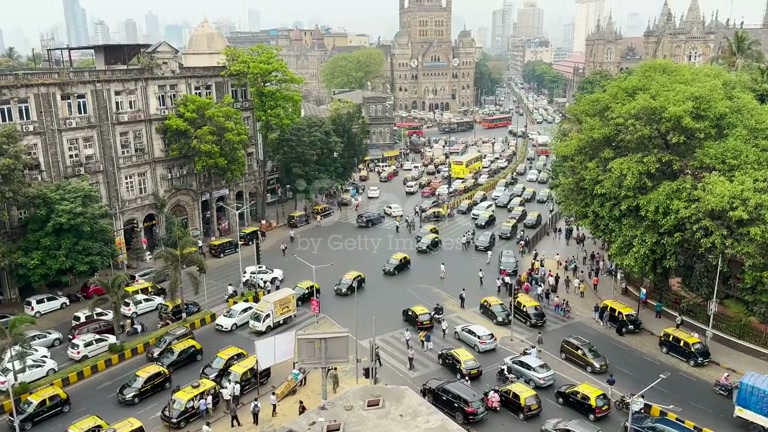bus: (247, 287, 298, 335), (732, 370, 768, 431), (450, 152, 483, 182)
car: (160, 377, 223, 427), (8, 381, 71, 431), (199, 343, 258, 395), (423, 379, 489, 425), (0, 345, 59, 390), (116, 361, 171, 406), (146, 330, 204, 372), (483, 380, 543, 420), (554, 381, 612, 421), (657, 326, 712, 367), (502, 348, 555, 388), (559, 335, 610, 376), (437, 346, 483, 381), (214, 302, 259, 334), (67, 333, 115, 362), (454, 324, 499, 353), (513, 293, 547, 328), (23, 294, 71, 318), (120, 295, 164, 319), (479, 296, 511, 326), (333, 269, 366, 296), (23, 329, 64, 349), (402, 304, 434, 329), (382, 250, 412, 276), (712, 372, 738, 398), (415, 231, 442, 254)
truck: (732, 371, 768, 431)
